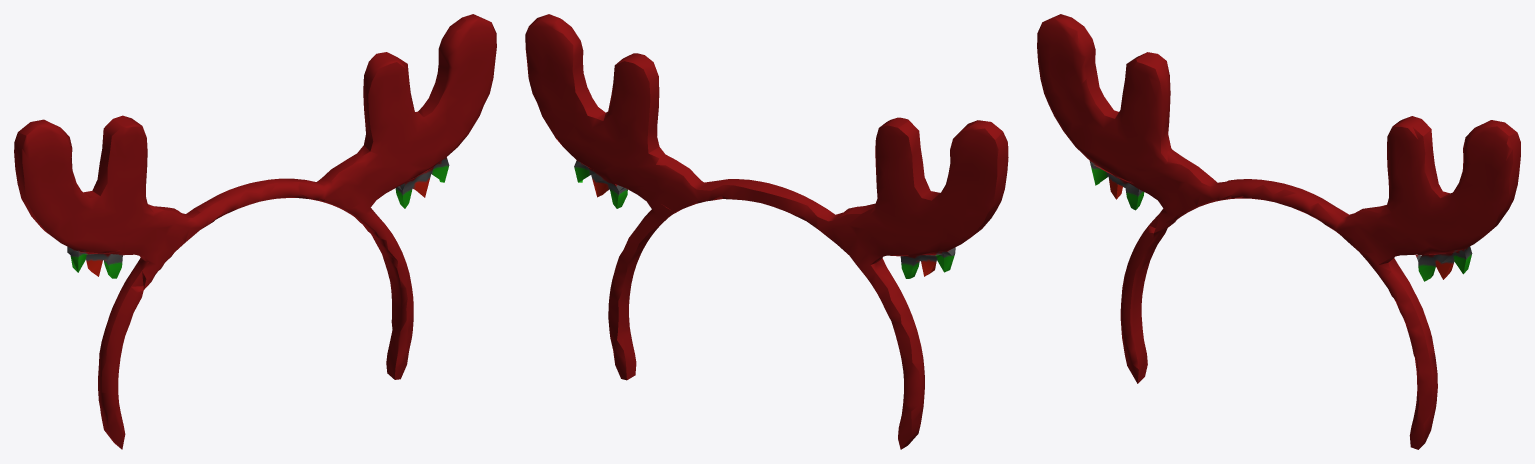
File: wear_reindeer.glb
3 renders of one model, left to right at view 1: azimuth 30°, elevation 25°; view 2: azimuth 150°, elevation 25°; view 3: azimuth 330°, elevation 25°, orthographic.
Parts seen in each view (by area): view 1: mesh; view 2: mesh; view 3: mesh.
Boxes of the visible parts, x1=… form: mesh: x1=14, y1=14, x2=496, y2=449; mesh: x1=525, y1=14, x2=1008, y2=449; mesh: x1=1037, y1=14, x2=1520, y2=449.
Bounding box in the file's own units: 0.2887 × 0.2 × 0.0145.
1 material, 1 textured.
